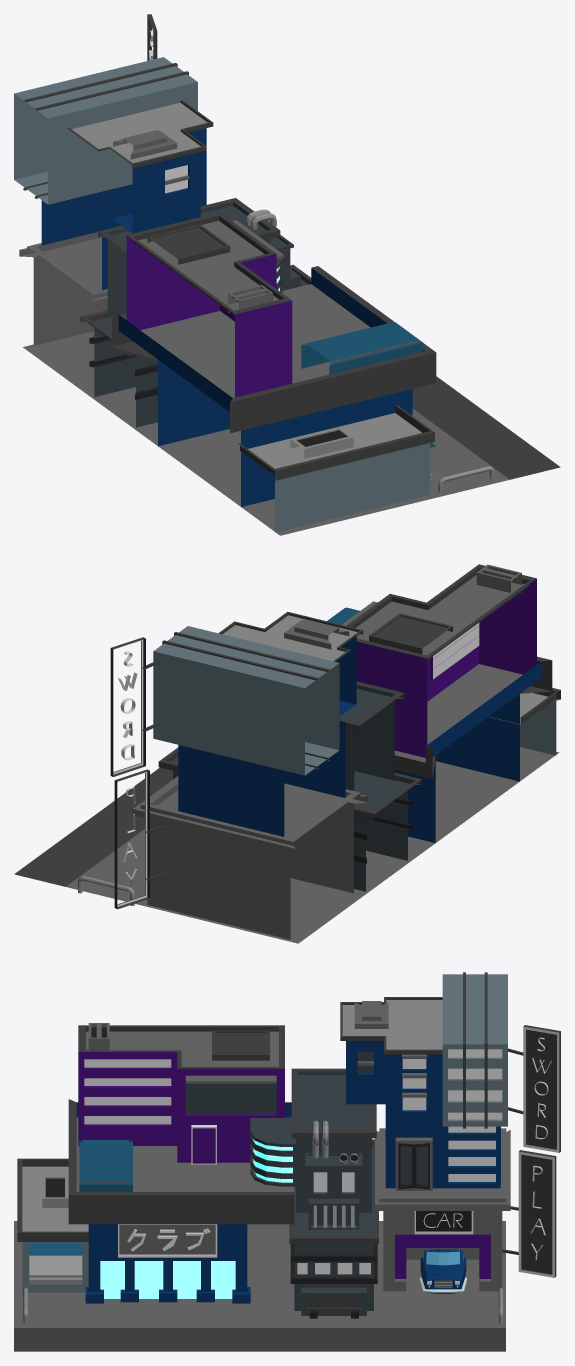
File: Build_02.fbx
The picture shows the model from 3 angles, top to bottom: view 1: azimuth 30°, elevation 25°; view 2: azimuth 150°, elevation 25°; view 3: azimuth 270°, elevation 25°; orthographic projection. The views are drawn at different scales.
Visible parts, largest first — view 1: Club, Club 02, Plane, Garage 03, booth, Garage 02, Garage, ElectricBox 02, ElectricBox; view 2: Garage, Garage 03, Club 02, Plane, Garage 02, Club, ElectricBox, ElectricBox 02, SwordPlay, booth, Text.Sword; view 3: Plane, Club, Club 02, Garage 02, ElectricBox 02, Garage, Garage 03, SwordPlay, ElectricBox, booth, CAR, Text Club.
Boxes of the visible parts, box(x1,y1,x2,y2) form: Club: box(111, 266, 436, 506); Club 02: box(126, 212, 292, 397); Plane: box(23, 331, 560, 535); Garage 03: box(14, 57, 197, 204); booth: box(238, 405, 435, 532); Garage 02: box(41, 100, 213, 290); Garage: box(19, 232, 107, 345); ElectricBox 02: box(98, 198, 300, 317); ElectricBox: box(80, 264, 311, 427); Garage: box(132, 776, 368, 939); Garage 03: box(153, 626, 339, 775); Club 02: box(341, 564, 536, 757); Plane: box(14, 747, 559, 943); Garage 02: box(178, 611, 363, 836); Club: box(327, 607, 552, 843); ElectricBox: box(158, 747, 422, 891); ElectricBox 02: box(339, 681, 404, 805); SwordPlay: box(110, 637, 164, 909); booth: box(488, 688, 560, 755); Text.Sword: box(118, 651, 137, 760); Plane: box(14, 1221, 505, 1351); Club: box(68, 1099, 294, 1303); Club 02: box(78, 1023, 284, 1164); Garage 02: box(340, 997, 500, 1190); ElectricBox 02: box(250, 1068, 376, 1229); Garage: box(375, 1128, 510, 1291); Garage 03: box(442, 972, 507, 1128); SwordPlay: box(502, 1025, 560, 1277); ElectricBox: box(289, 1139, 378, 1318); booth: box(17, 1158, 88, 1292); CAR: box(419, 1249, 467, 1293); Text Club: box(127, 1228, 210, 1251).
Bounding box in the file's own units: 528 × 465 × 867.
